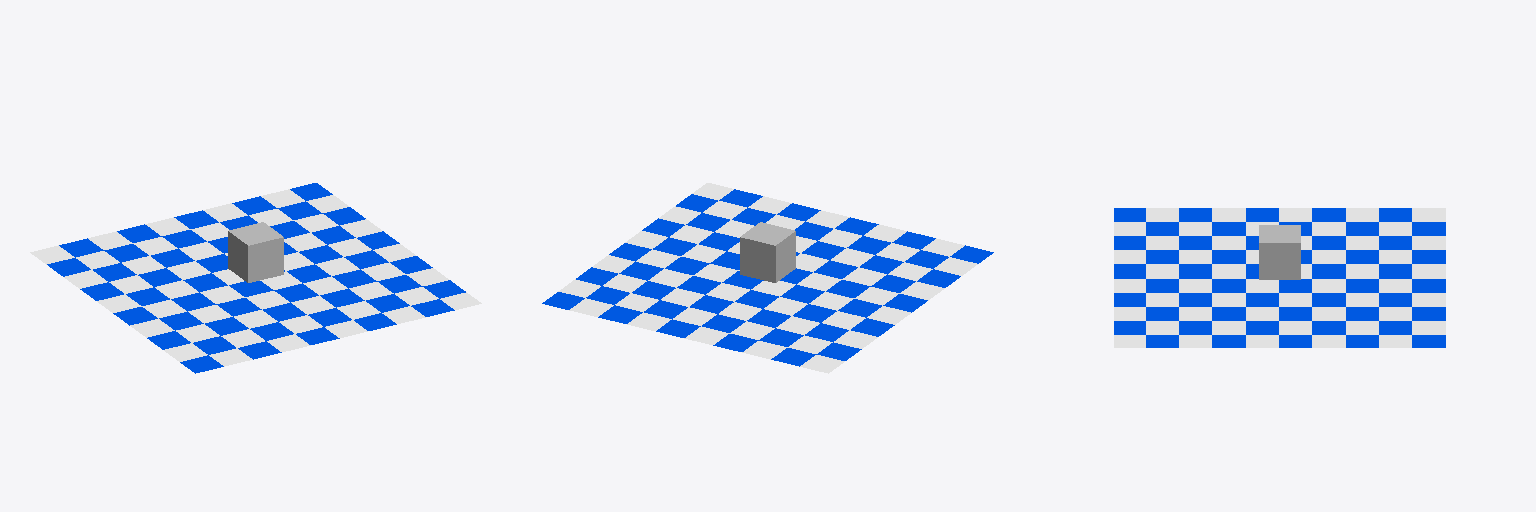
The picture shows the model from 3 angles: view 1: azimuth 30°, elevation 25°; view 2: azimuth 150°, elevation 25°; view 3: azimuth 270°, elevation 25°; orthographic projection.
Parts seen in each view (by area): view 1: Plane, Cube; view 2: Plane, Cube; view 3: Plane, Cube.
Boxes of the visible parts, box(x1,y1,x2,y2) form: Plane: box(30, 183, 481, 373); Cube: box(228, 222, 283, 282); Plane: box(542, 183, 993, 373); Cube: box(740, 222, 795, 282); Plane: box(1114, 208, 1445, 347); Cube: box(1259, 225, 1300, 279).
Bounding box in the file's own units: 16 × 2.36 × 16.
Materials: 2 (1 with a texture image).